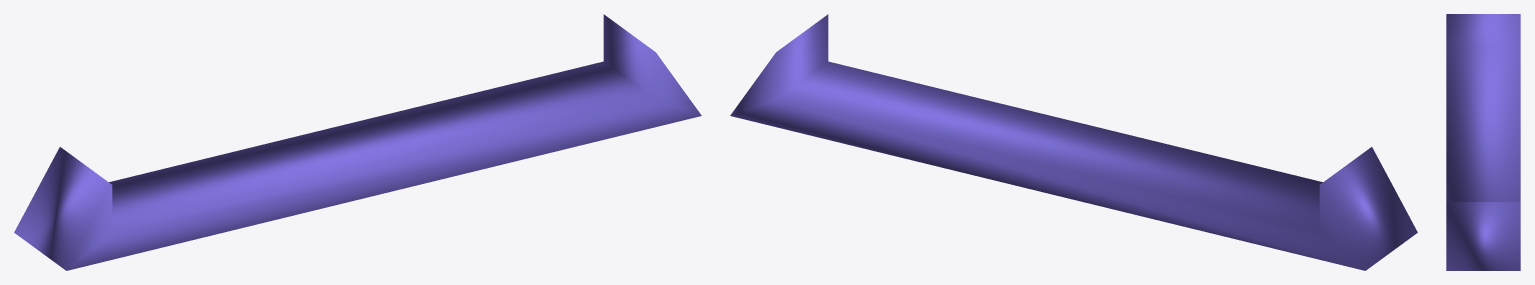
Rendered from socle.dae.
3 views of the same model, side by side, from view 1: azimuth 30°, elevation 25°; view 2: azimuth 150°, elevation 25°; view 3: azimuth 270°, elevation 25° (orthographic). The views are drawn at different scales.
Visible parts, largest first — view 1: Cube_003; view 2: Cube_003; view 3: Cube_003.
Part boxes in pixels (x1,y1,x2,y2): Cube_003: (14,14,701,270); Cube_003: (730,14,1417,270); Cube_003: (1446,14,1520,270).
Size of the model in its own units: 13.99 by 2 by 1.57.
